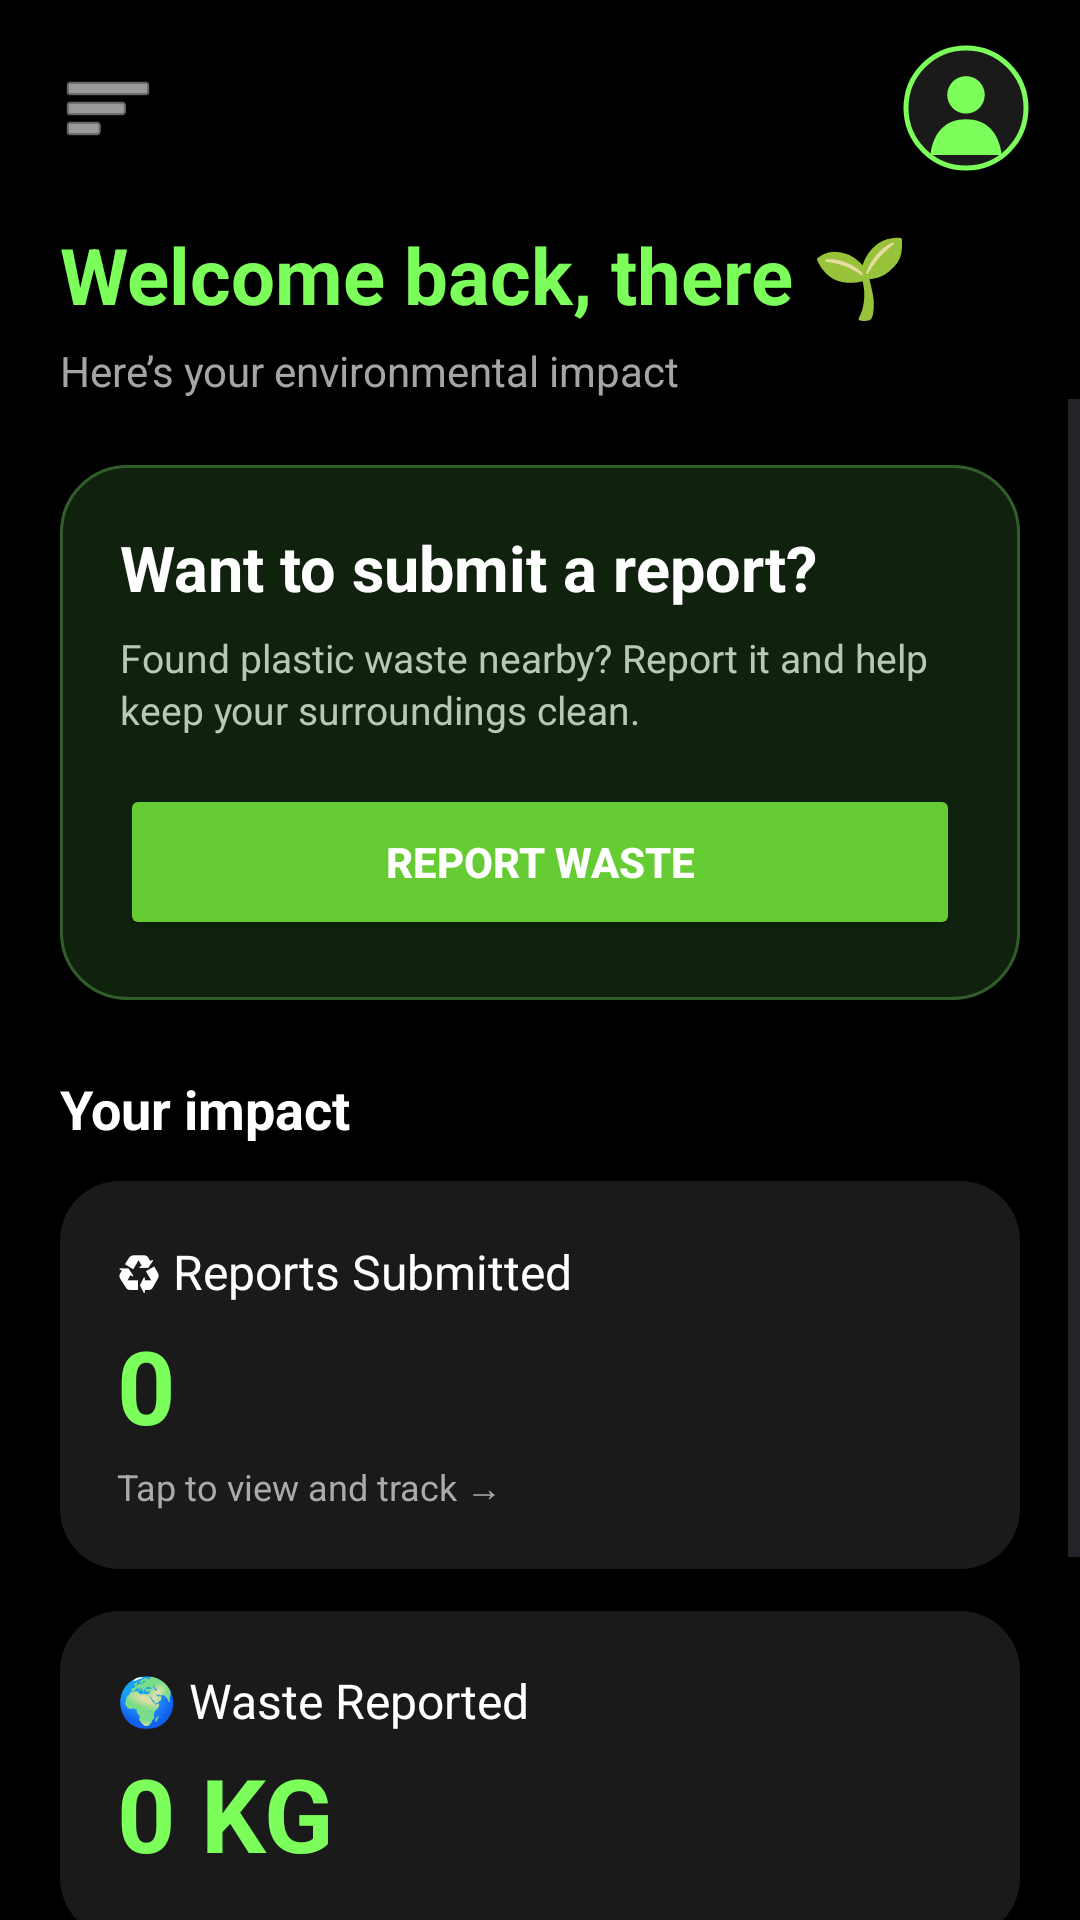

Screen size 1080 x 1920. Icon name, then its box in pixels as (x1, y1, x2, y2):
Open menu: (67, 82, 149, 135)
Profile picture: (903, 45, 1029, 171)
